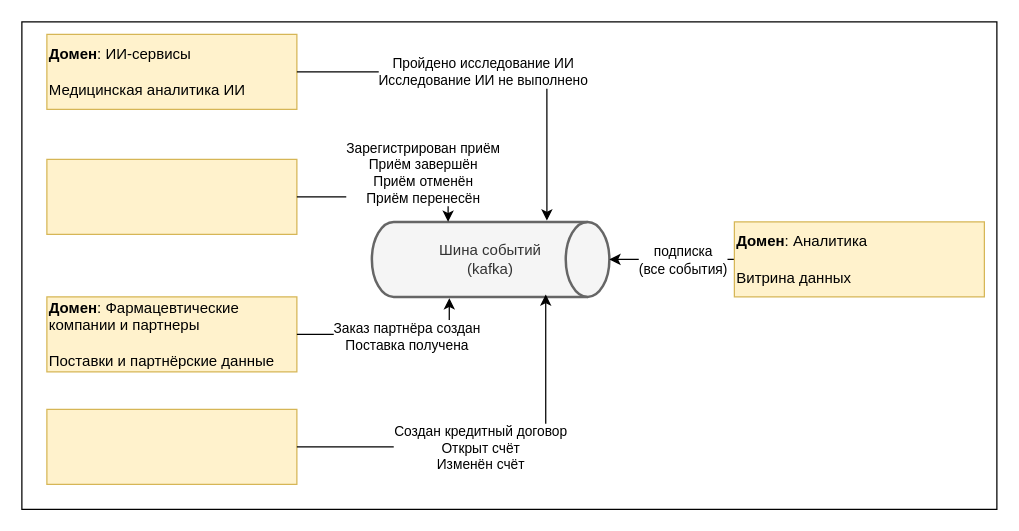
The diagram is 1019 pixels wide and 531 high, and some of its shapes have lost their labels. Here are the shapes that lost their labels. From the top down, the box of each, then its label:
(46, 158, 297, 234): Домен : Клиники Поток пациентов и ресурсы
(46, 408, 297, 484): Домен : Финансы Кредиты и счета
